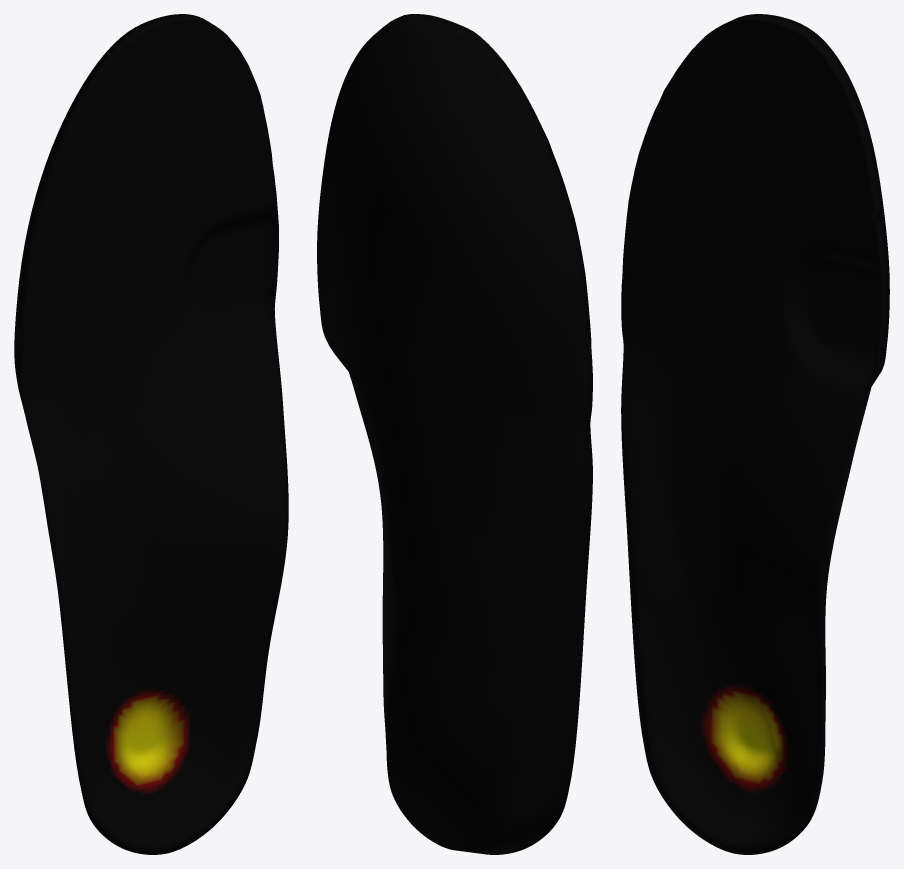
Rendered from CPO-306397_LEFT.glb.
3 renders of one model, left to right at view 1: azimuth 30°, elevation 25°; view 2: azimuth 150°, elevation 25°; view 3: azimuth 330°, elevation 25°, orthographic. The views are drawn at different scales.
Visible parts, largest first — view 1: geometry_0; view 2: geometry_0; view 3: geometry_0.
Part boxes in pixels (left/top/right/bottom): geometry_0: left=14, top=14, right=288, bottom=854; geometry_0: left=317, top=14, right=592, bottom=854; geometry_0: left=621, top=14, right=889, bottom=854.
Size of the model in its own units: 81.1 by 245 by 21.81.
